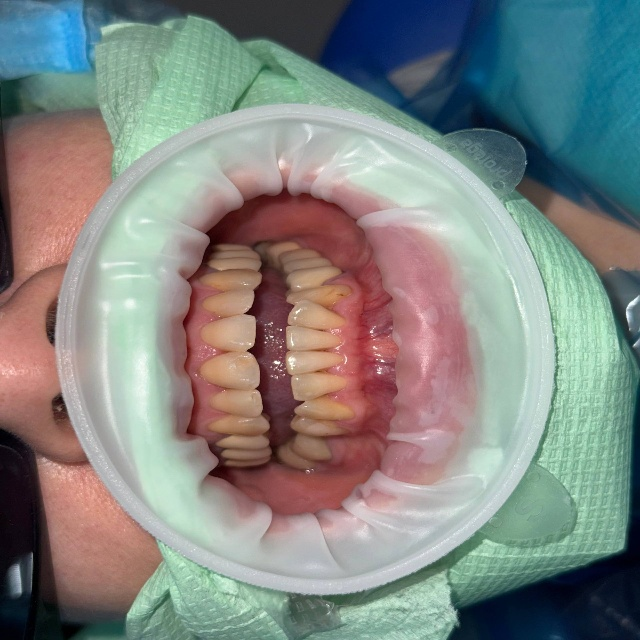clean_tooth: (73, 263, 97, 391), (221, 315, 254, 347), (226, 358, 258, 385), (287, 351, 322, 373), (287, 326, 319, 349)
plaque: (314, 0, 506, 129), (529, 147, 632, 219), (0, 0, 101, 67), (496, 615, 575, 639), (108, 0, 176, 20)
